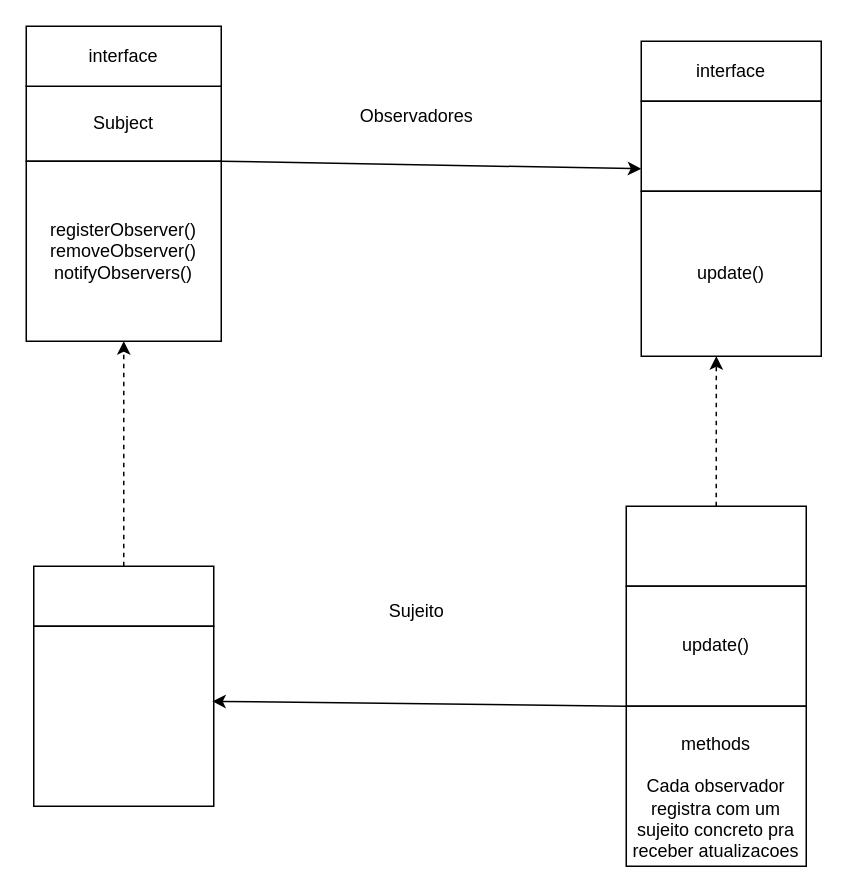
Image size: 848x893. Some labels were removed from this diagram. Each missing label, with the box of its shape:
Concrete Observer: (625, 505, 806, 586)
Concrete Subject: (32, 565, 214, 626)
Observer: (640, 100, 821, 191)
registerObserver() removeObserver() notifyObserver getState() setState(): (32, 625, 214, 806)
